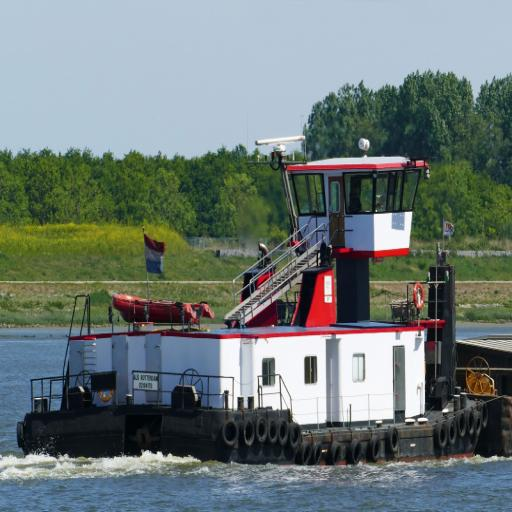tugboat: (16, 131, 497, 475)
